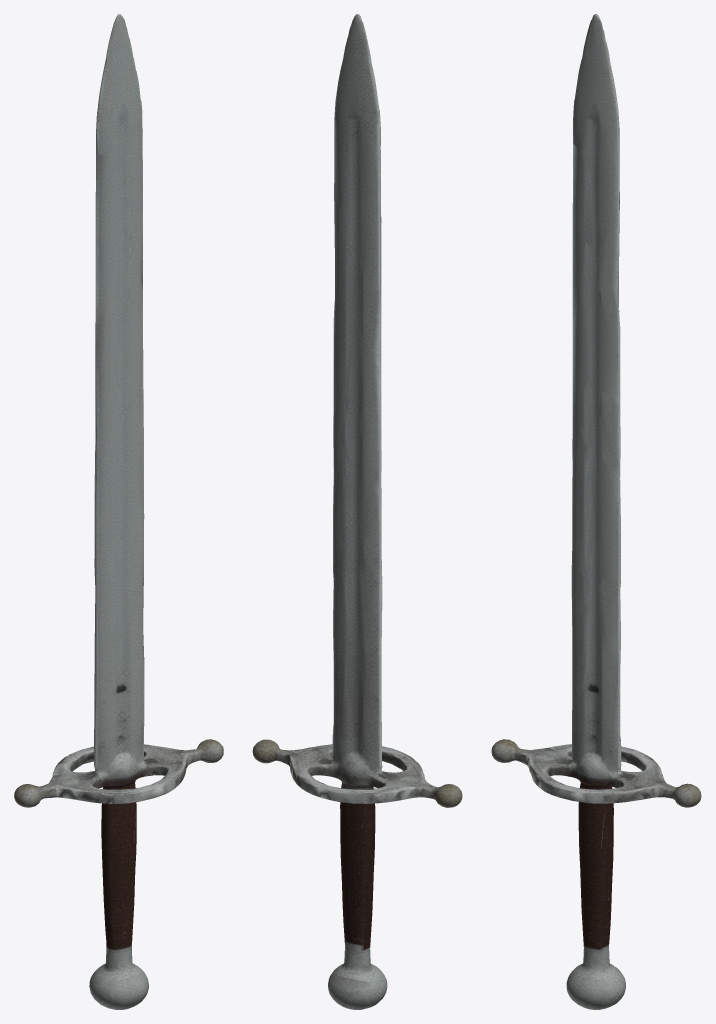
Rendered from wpn_sword_iron.glb.
3 views of the same model, side by side, from view 1: azimuth 30°, elevation 25°; view 2: azimuth 150°, elevation 25°; view 3: azimuth 330°, elevation 25° (orthographic).
Parts seen in each view (by area): view 1: wpn_sword_iron; view 2: wpn_sword_iron; view 3: wpn_sword_iron.
Part boxes in pixels (<box>): wpn_sword_iron: <box>14,14,223,1009</box>; wpn_sword_iron: <box>252,14,462,1009</box>; wpn_sword_iron: <box>491,14,701,1009</box>.
Size of the model in its own units: 0.2093 by 0.96 by 0.1038.
Materials: 1 (1 with a texture image).
